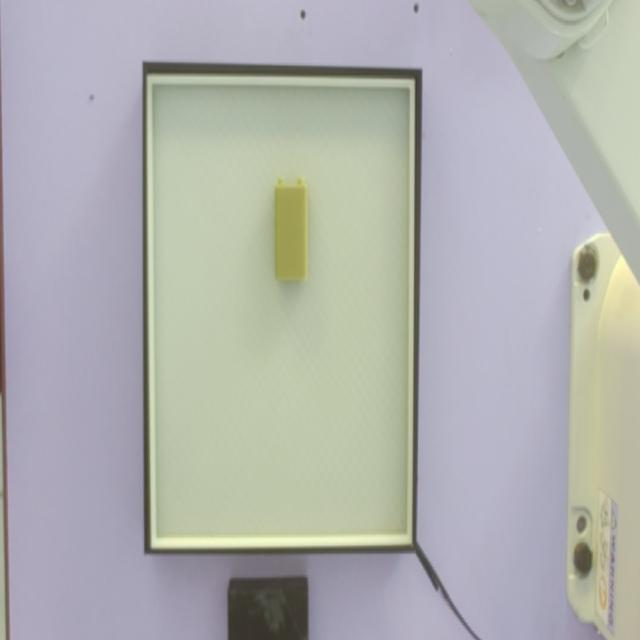bateria: (274, 180, 307, 281)
mesa: (143, 63, 422, 554)
